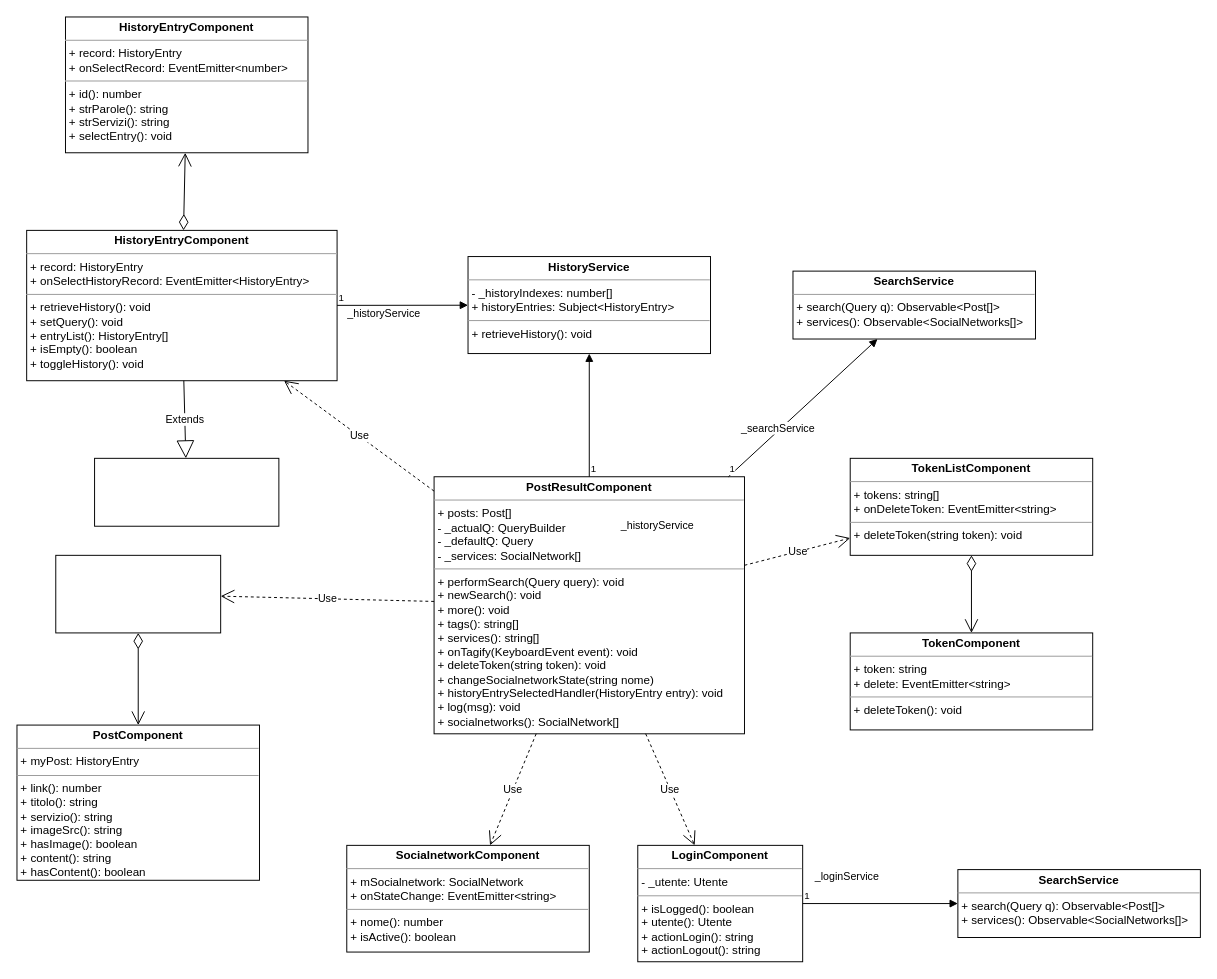
Some shapes in this 1217 by 979 pixel diagram are drawn without their labels. Here are the shapes that lost their labels. From the top down, the box of each, then its label:
(94, 457, 279, 526): <<Interface>> OnInit + ngOnInit(): void
(55, 554, 221, 633): PostListComponent + posts: HistoryEntry + length(): number
